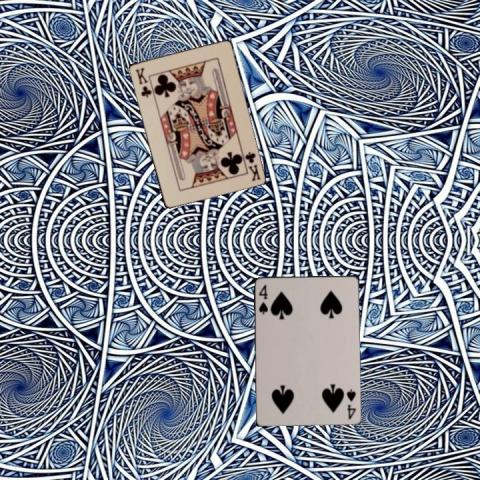4s: (343, 386, 357, 421), (255, 282, 269, 316)
Kc: (241, 149, 262, 182), (132, 65, 152, 98)
